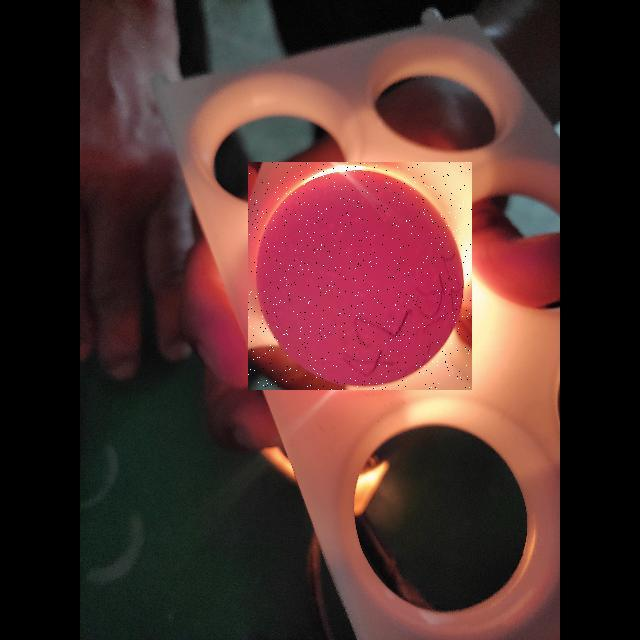Infertile: (248, 162, 472, 390)
